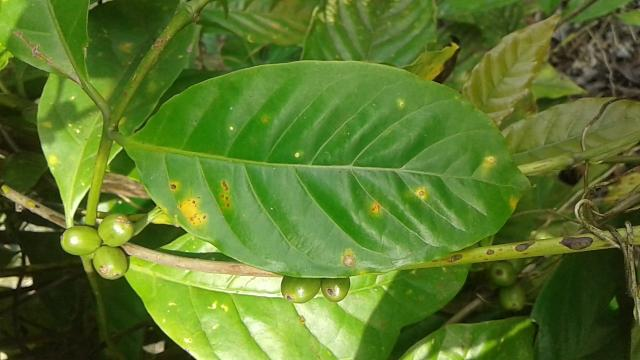rust_level_2: (124, 60, 542, 282)
